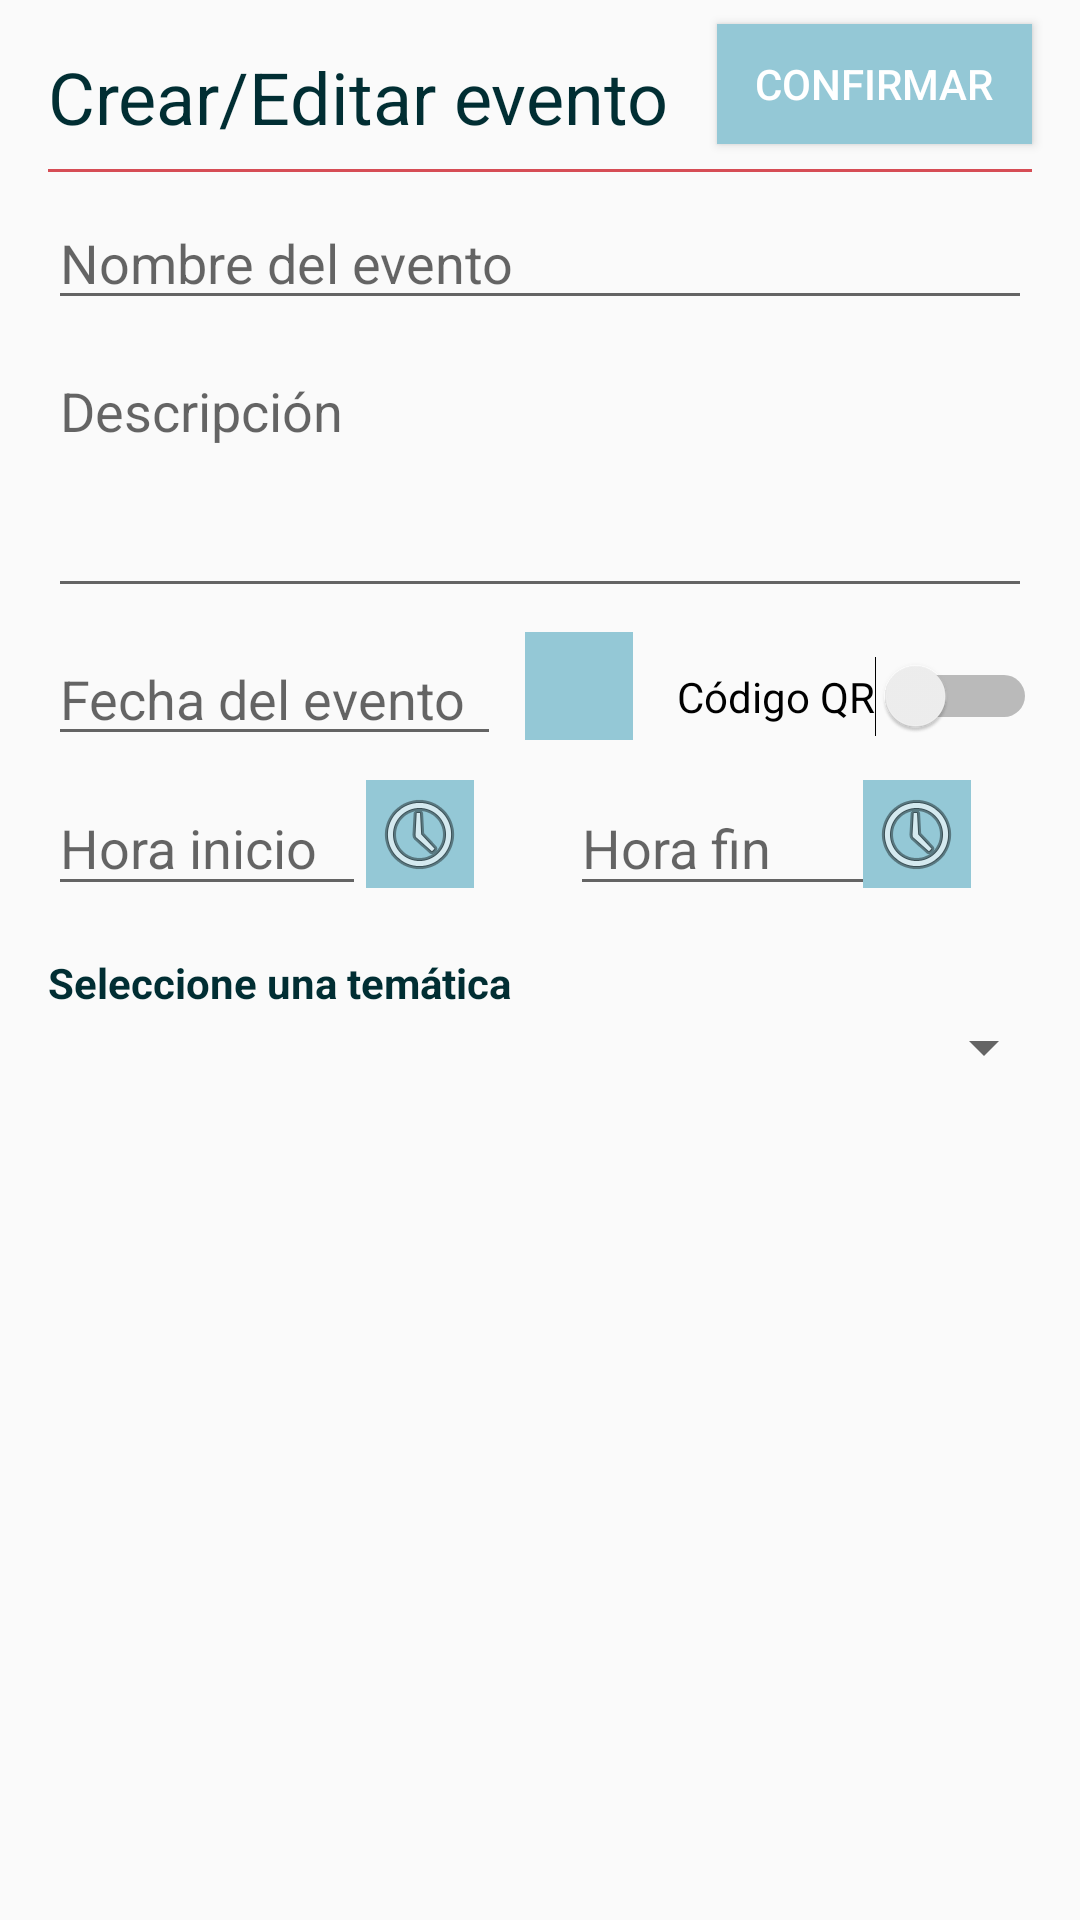

Point at icon controls on the screen. Image size 1080w x 1920h, points as (x,y).
recent history: (420,834), (917,834)
